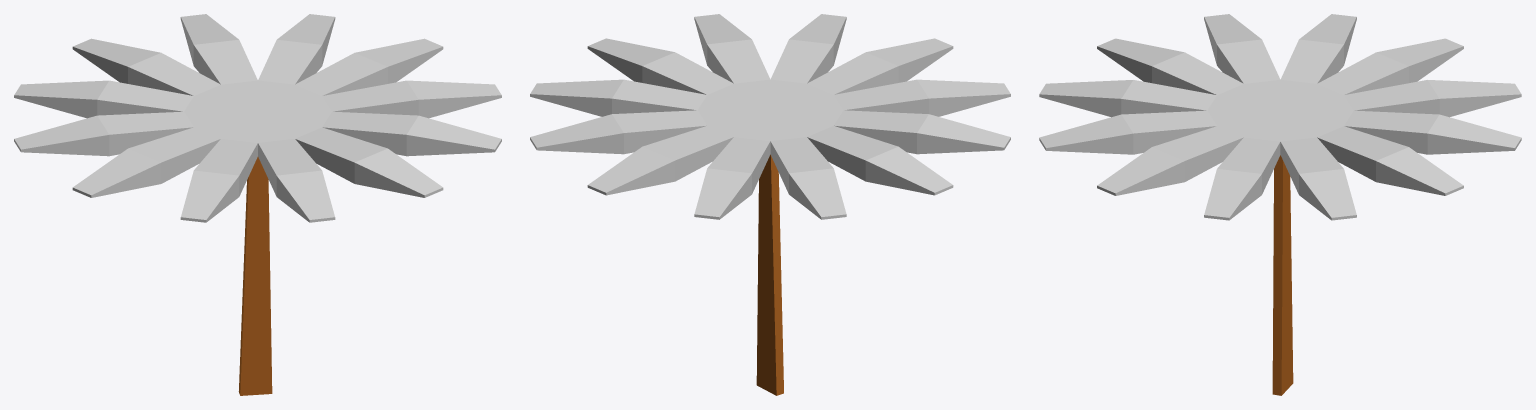
File: Arbretop.FBX
3 views of the same model, side by side, from view 1: azimuth 30°, elevation 25°; view 2: azimuth 150°, elevation 25°; view 3: azimuth 270°, elevation 25° (orthographic).
Parts seen in each view (by area): view 1: Cylinder099, Box4187; view 2: Cylinder099, Box4187; view 3: Cylinder099, Box4187.
Boxes of the visible parts, bbox=[...] form: Cylinder099: bbox=[14, 14, 501, 222]; Box4187: bbox=[238, 157, 272, 395]; Cylinder099: bbox=[530, 14, 1010, 219]; Box4187: bbox=[756, 154, 783, 395]; Cylinder099: bbox=[1039, 14, 1521, 220]; Box4187: bbox=[1272, 155, 1293, 395].
Bounding box in the file's own units: 260 × 168 × 260.
